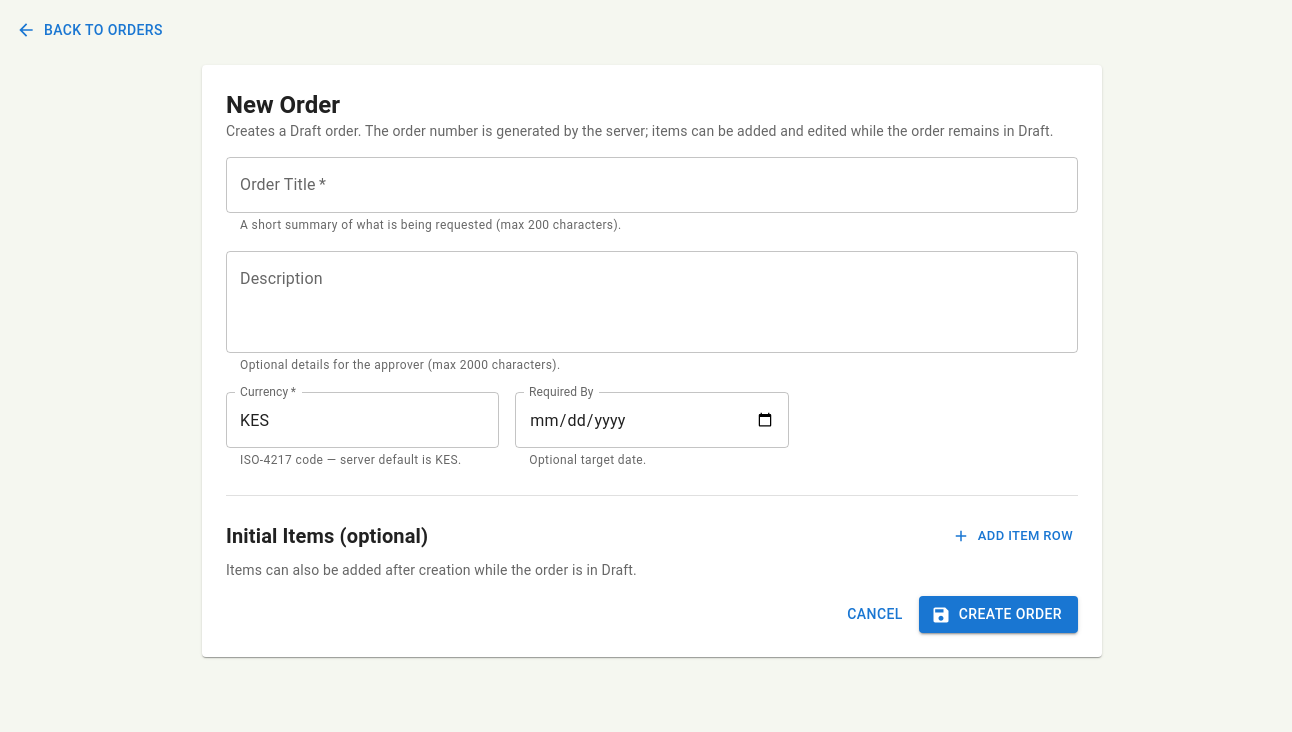
OmsOrderCreate › blocks submission and shows validation errors when the form is empty
This screenshot has width=1292, height=732.
Click the button "Create Order": (998, 615) [919,596,1078,633]
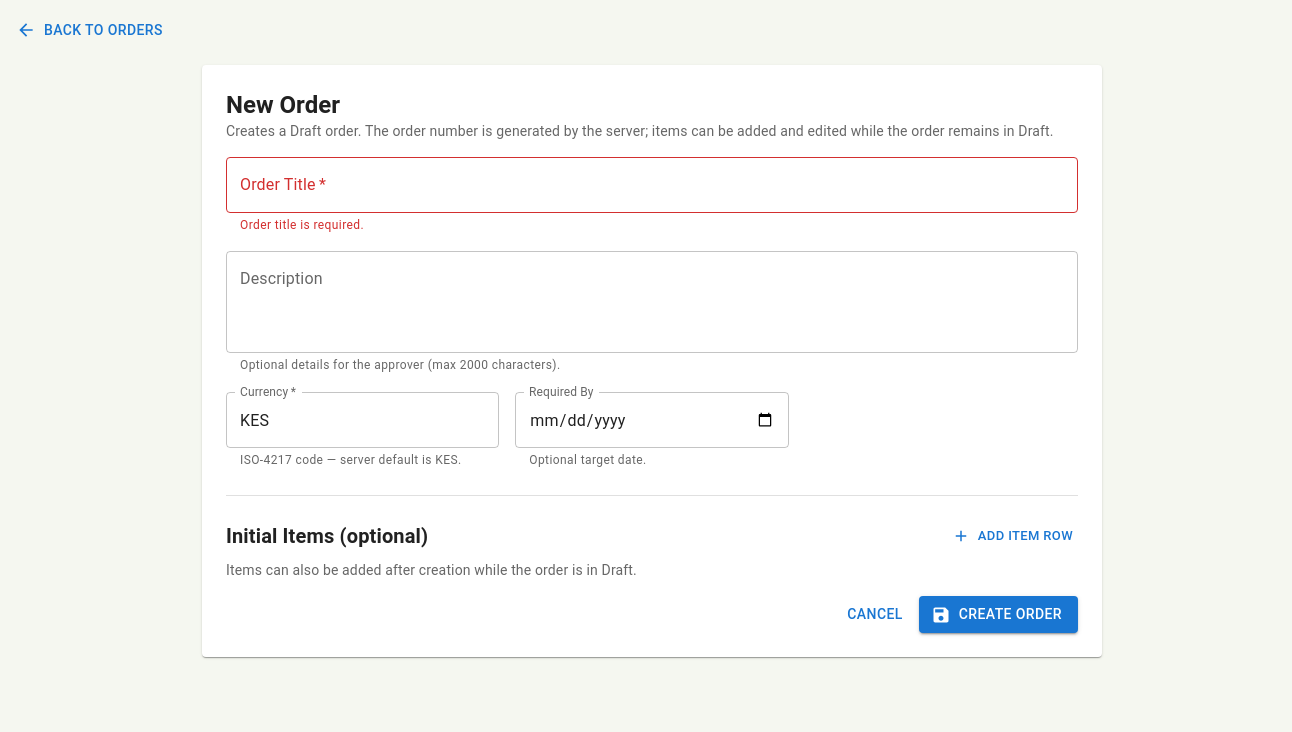
Now the text "Order title is required." is shown, box [240,218,364,232]
